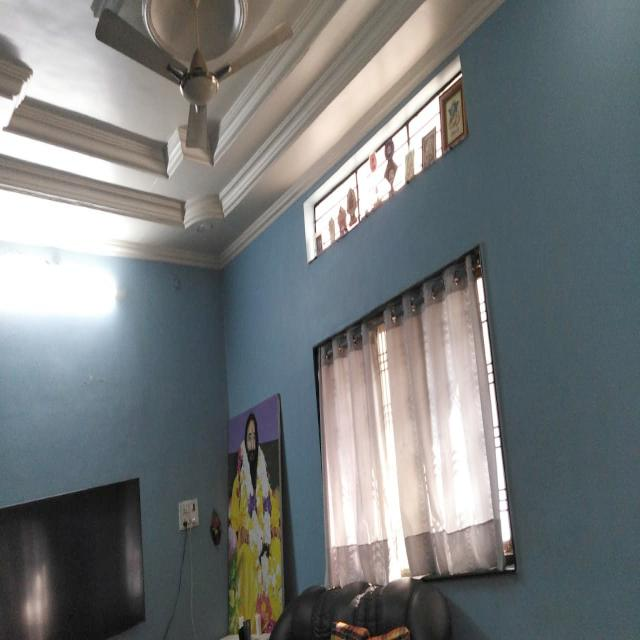Non_Damaged: (3, 0, 635, 605)
